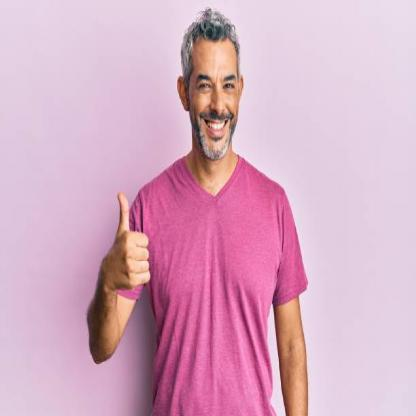thumb_up: (103, 190, 152, 293)
